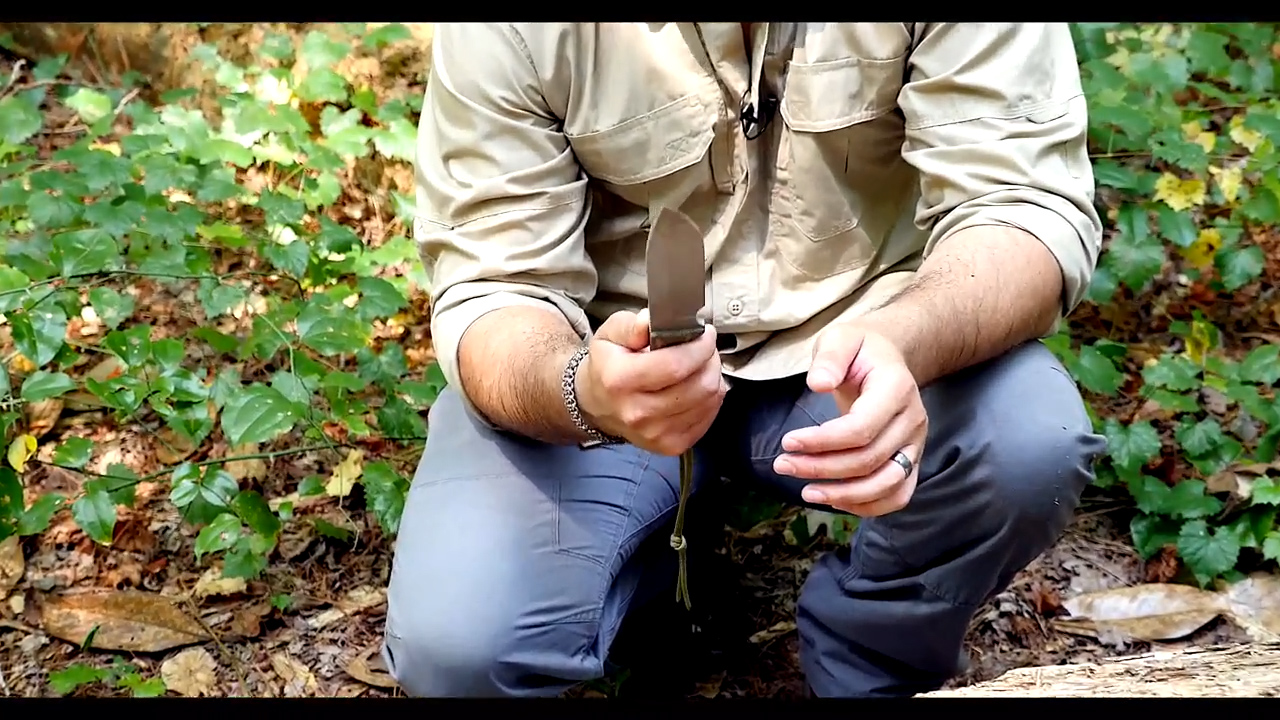knife: (607, 198, 727, 413)
